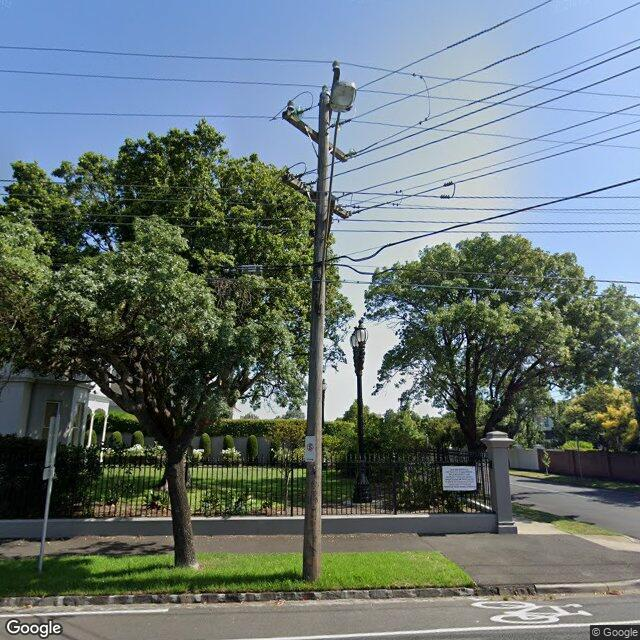HV-transmission: (290, 106, 358, 159)
crossarm: (282, 110, 347, 162), (281, 172, 349, 219)
streetlight: (316, 80, 356, 316)
timber-pole: (302, 89, 330, 582)
